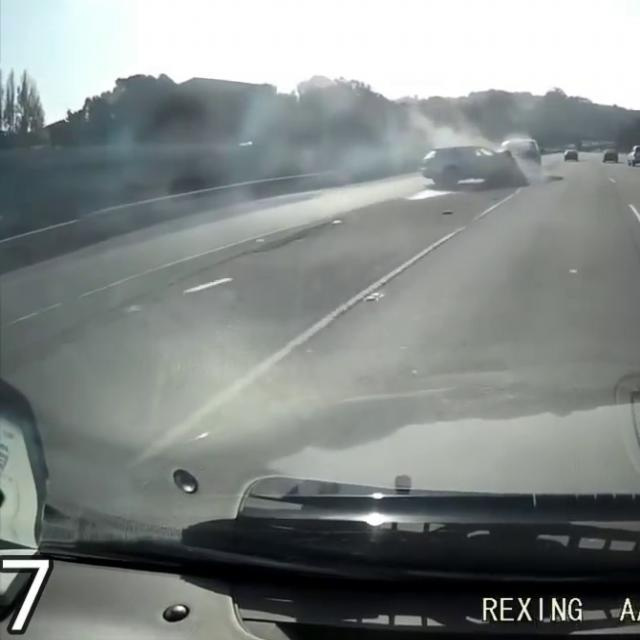accident: (418, 135, 546, 206)
